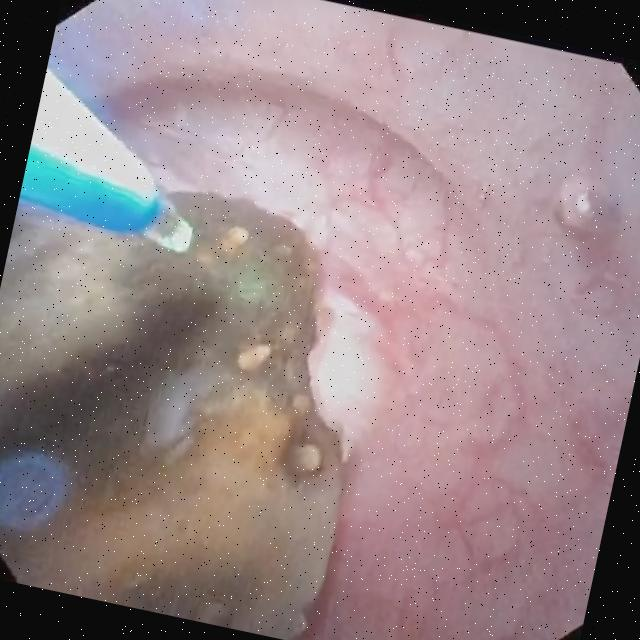laser-fibre: (146, 200, 189, 252)
laser_dot: (235, 269, 270, 302)
stone-new: (0, 190, 344, 639)
